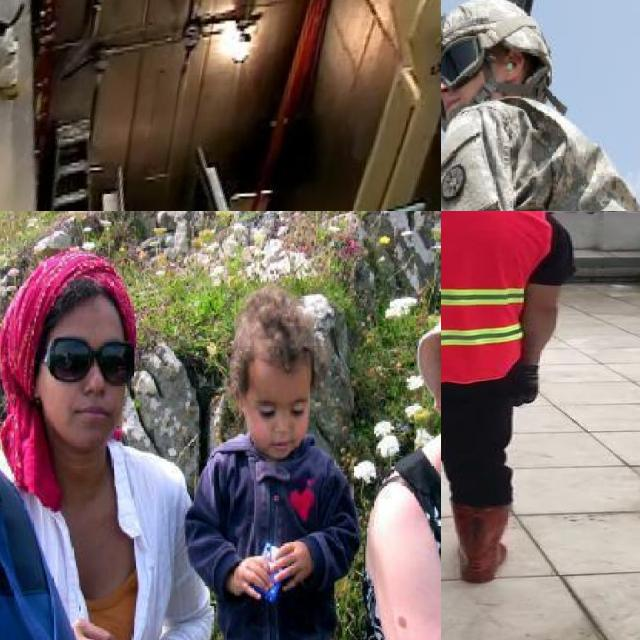boots: (448, 500, 512, 583)
face_nomask: (49, 333, 123, 432), (252, 392, 311, 450)
glasses: (43, 330, 135, 388), (441, 35, 488, 89)
hand_glove: (510, 365, 538, 407)
hand_noglove: (265, 538, 318, 592), (226, 549, 274, 601), (63, 612, 137, 640)
head_helmet: (441, 0, 554, 70)
head_nohelmet: (22, 249, 129, 323), (224, 296, 324, 374)
person: (0, 254, 199, 640), (191, 279, 354, 640), (441, 211, 566, 594), (441, 0, 640, 211), (364, 236, 441, 640)
vest: (441, 211, 547, 382)
